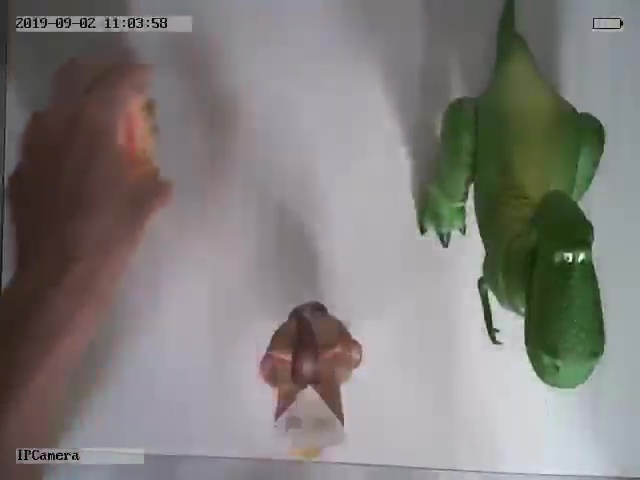horse: (256, 300, 363, 462)
rex: (417, 12, 606, 389)
